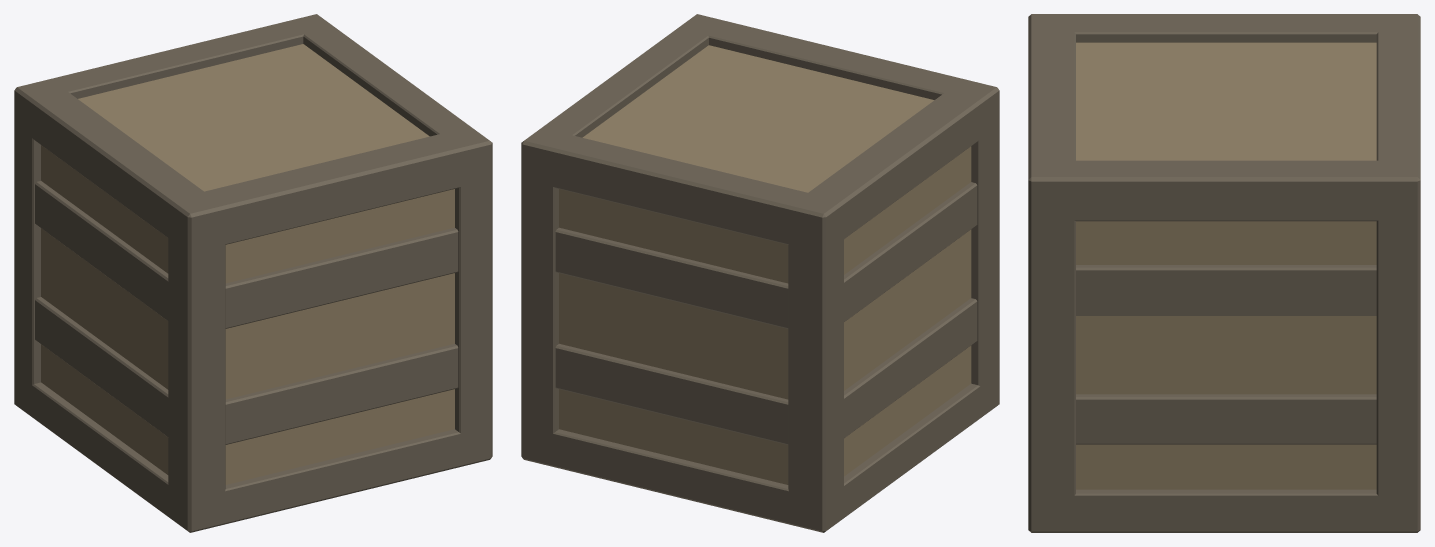
Rendered from crate2.fbx.
3 renders of one model, left to right at view 1: azimuth 30°, elevation 25°; view 2: azimuth 150°, elevation 25°; view 3: azimuth 270°, elevation 25°, orthographic. The views are drawn at different scales.
Visible parts, largest first — view 1: crate1; view 2: crate1; view 3: crate1.
Boxes of the visible parts, x1=… form: crate1: x1=14, y1=14, x2=492, y2=532; crate1: x1=521, y1=14, x2=999, y2=532; crate1: x1=1028, y1=14, x2=1420, y2=532.
Bounding box in the file's own units: 72.87 × 72.87 × 72.87.
